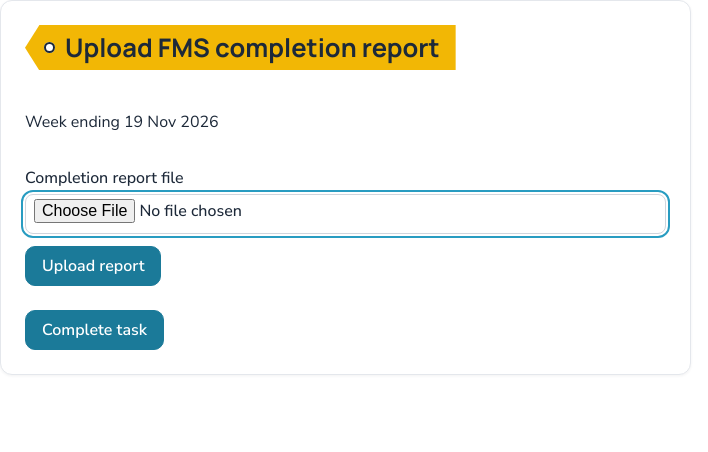
Test: UploadCompletionReport › BPA59_theServersRefusalOfTheUploadIsShown
Earlier steps of the test are not shown.
Expected: the text "Week ending 19 Nov 2026" is shown, [25,111,219,133]
Click the button "Upload report": (93,266) [25,246,162,286]
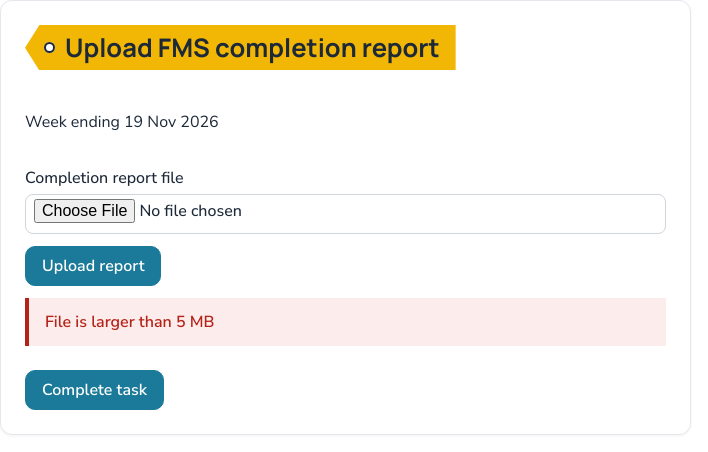
Expected: the text "File is larger than 5 MB" is shown, [25,298,666,346]
